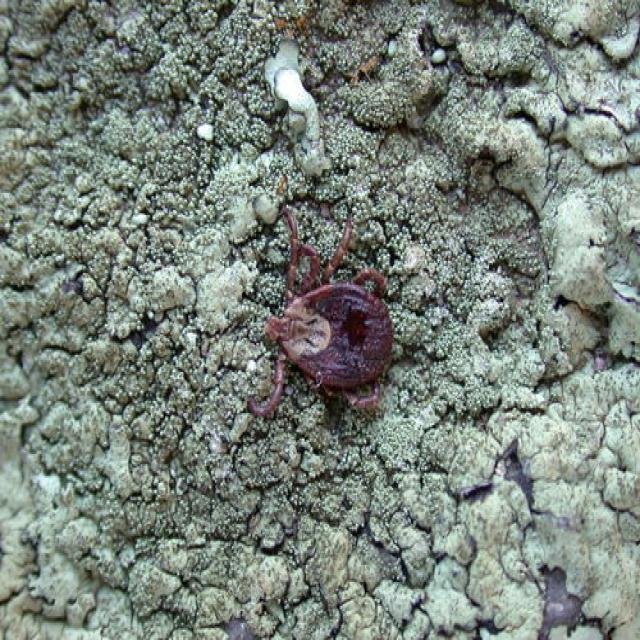Dermacentor Reticulatus-F: (247, 210, 393, 418)
